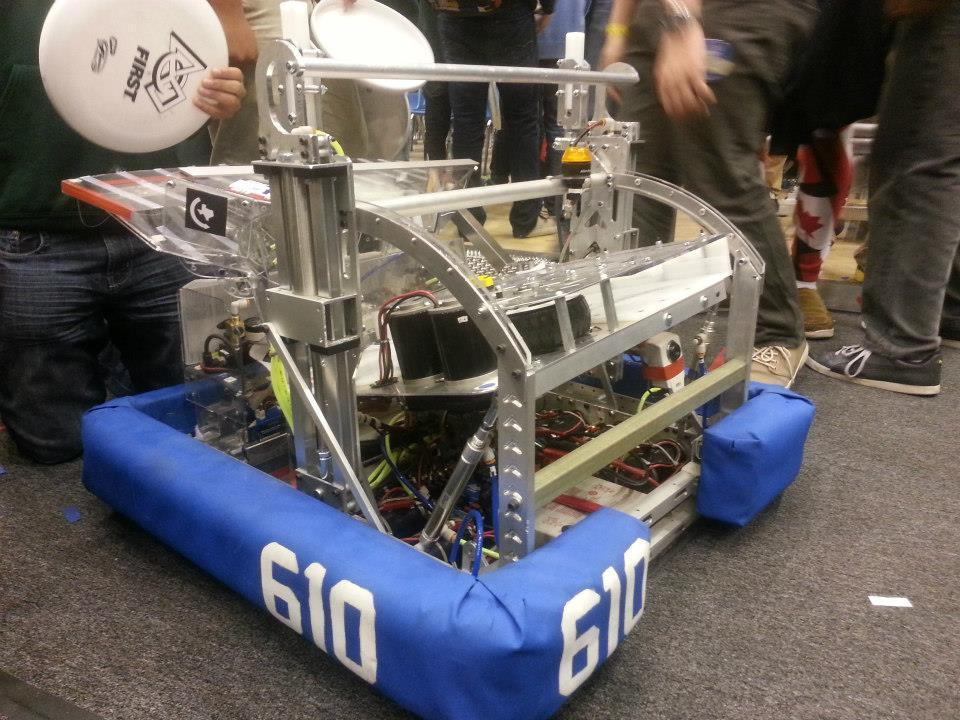robot: (49, 0, 821, 720)
